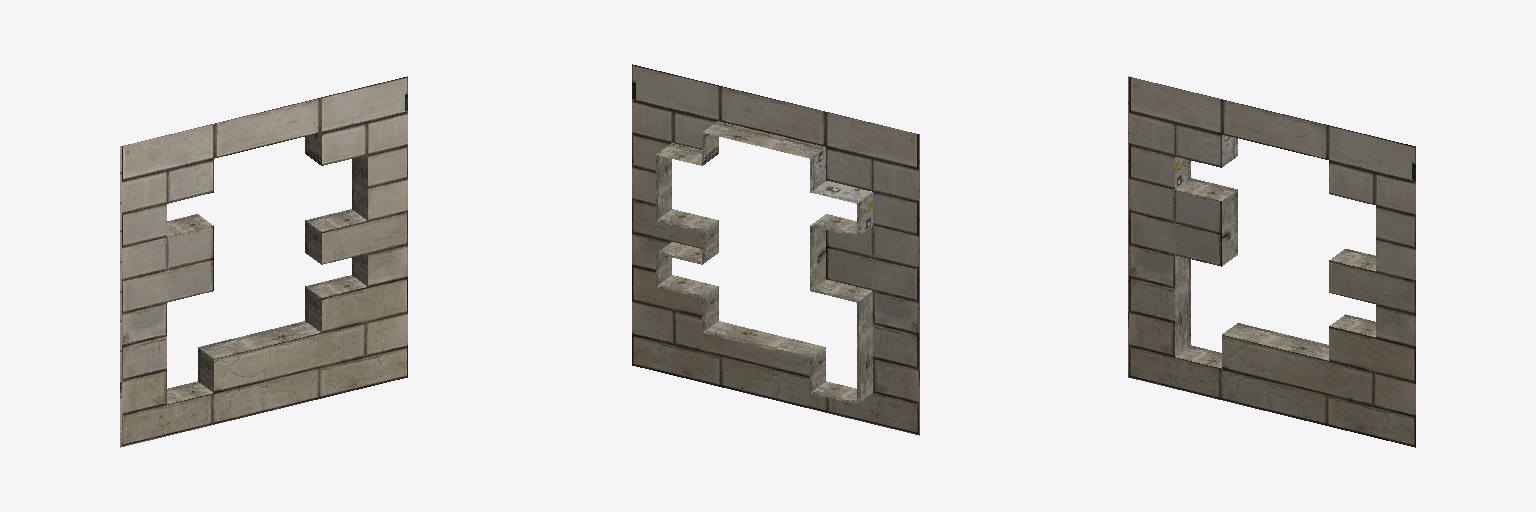
The picture shows the model from 3 angles: view 1: azimuth 30°, elevation 25°; view 2: azimuth 150°, elevation 25°; view 3: azimuth 330°, elevation 25°; orthographic projection.
Visible parts, largest first — view 1: polySurface7 pCube1; view 2: polySurface7 pCube1; view 3: polySurface7 pCube1.
Boxes of the visible parts, x1=… form: polySurface7 pCube1: x1=120, y1=76, x2=407, y2=447; polySurface7 pCube1: x1=632, y1=64, x2=919, y2=435; polySurface7 pCube1: x1=1128, y1=76, x2=1415, y2=447.
Bounding box in the file's own units: 0.5 × 0.5 × 0.0491.
Materials: 1 (1 with a texture image).